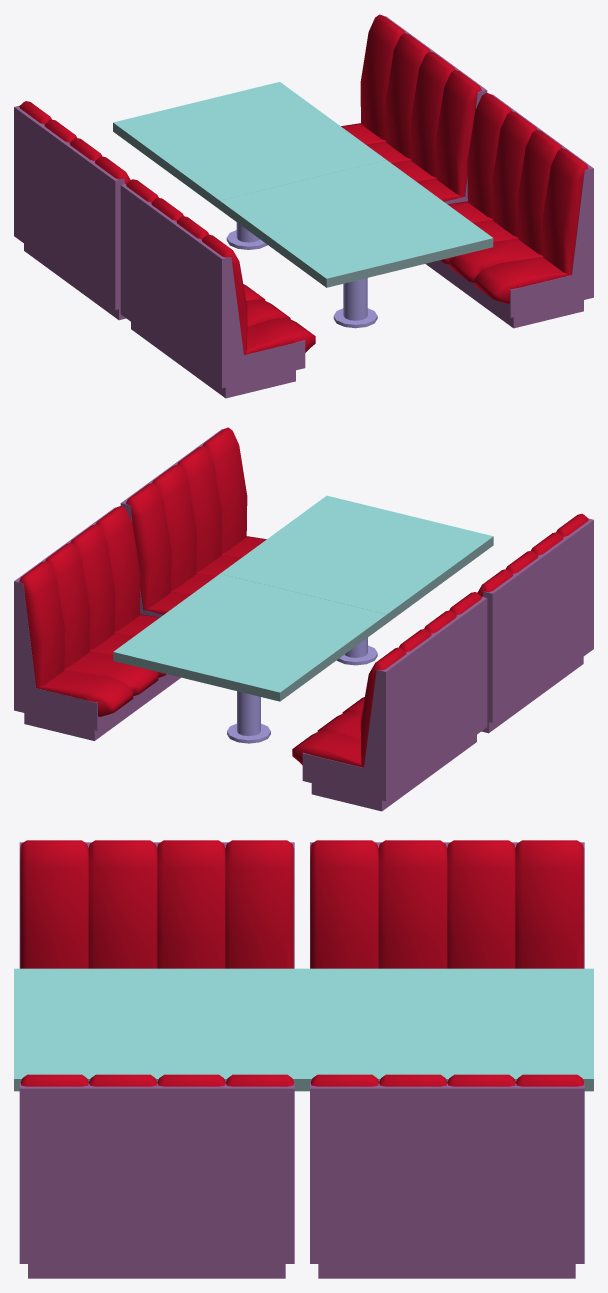
The model's file is Tables.fbx.
3 views of the same model, one above another, from view 1: azimuth 30°, elevation 25°; view 2: azimuth 150°, elevation 25°; view 3: azimuth 270°, elevation 25° (orthographic). The views are drawn at different scales.
Parts seen in each view (by area): view 1: DOME_030_table09, DOME_029_table08; view 2: DOME_029_table08, DOME_030_table09; view 3: DOME_030_table09, DOME_029_table08.
Boxes of the visible parts, <box> form: DOME_030_table09: <box>120,92,593,398</box>; DOME_029_table08: <box>14,14,487,320</box>; DOME_029_table08: <box>14,505,487,811</box>; DOME_030_table09: <box>120,427,593,733</box>; DOME_030_table09: <box>14,840,303,1278</box>; DOME_029_table08: <box>304,840,593,1278</box>.
Bounding box in the file's own units: 363 × 139 × 361.
2 materials, 2 textured.
